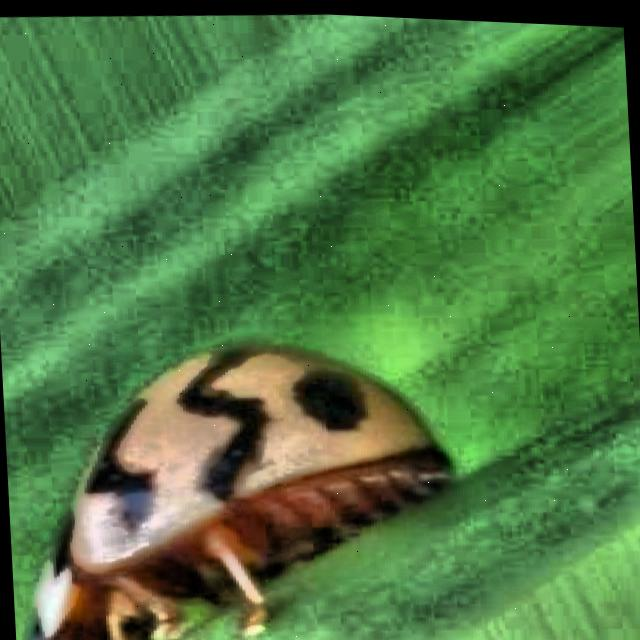Asian-Lady-beetle: (0, 298, 559, 640)
